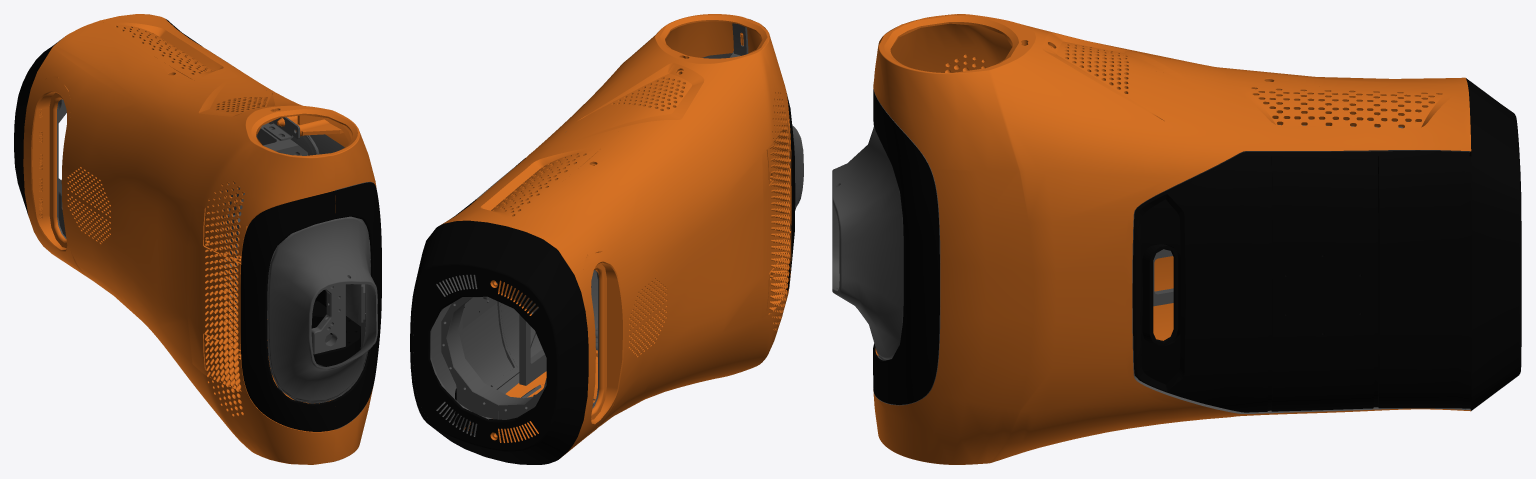
3 renders of one model, left to right at view 1: azimuth 30°, elevation 25°; view 2: azimuth 150°, elevation 25°; view 3: azimuth 270°, elevation 25°, orthographic. The views are drawn at different scales.
Visible parts, largest first — view 1: 0003; view 2: 0003; view 3: 0003.
Boxes of the visible parts, x1,y1,x2,y2 form: 0003: (14,14,381,464); 0003: (410,14,803,464); 0003: (832,14,1521,464).
Bounding box in the file's own units: 0.2087 × 0.3525 × 0.5573.
